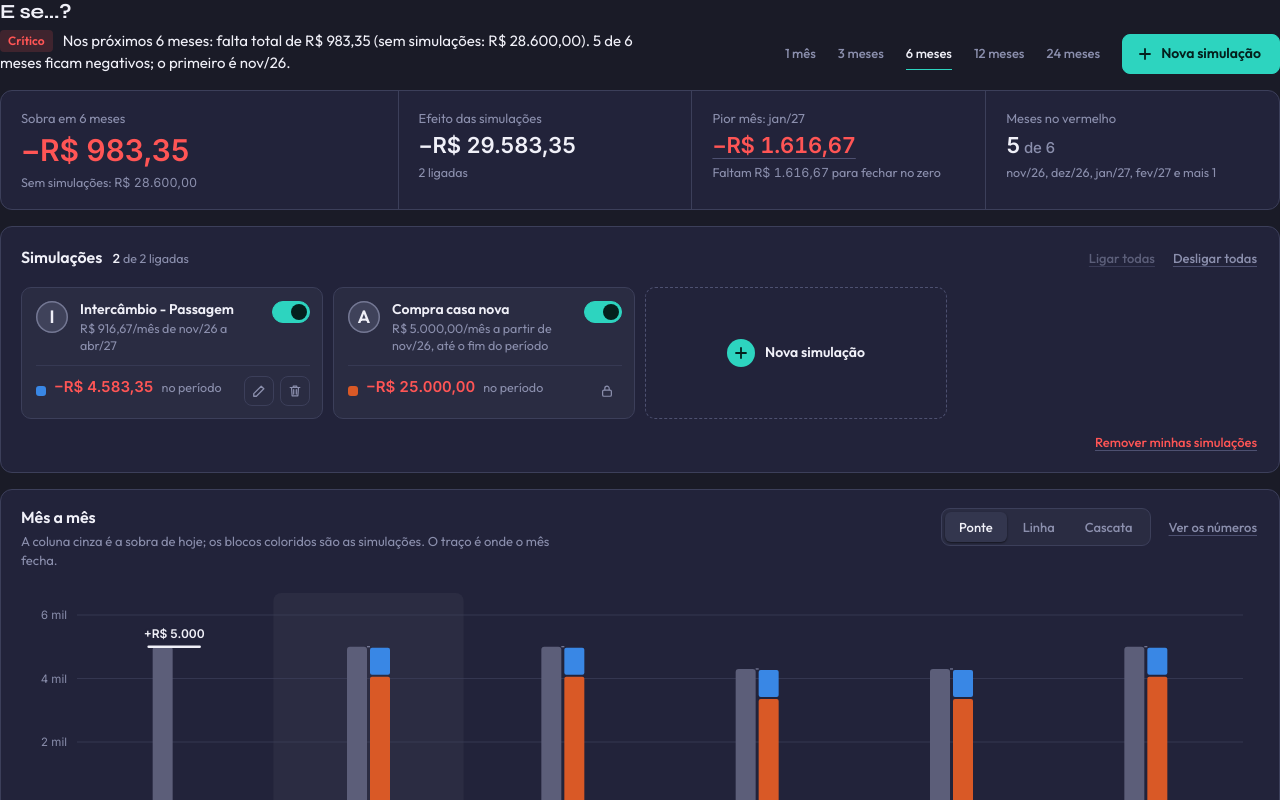
Test: WhatIfView: quitar parcelas do cartão › sugere dezembro e mostra a conta de todos os cartões antes de salvar
Click the button "Nova simulação" in the row of "Crítico". click: [1201, 54]
box: [1122,34,1279,74]
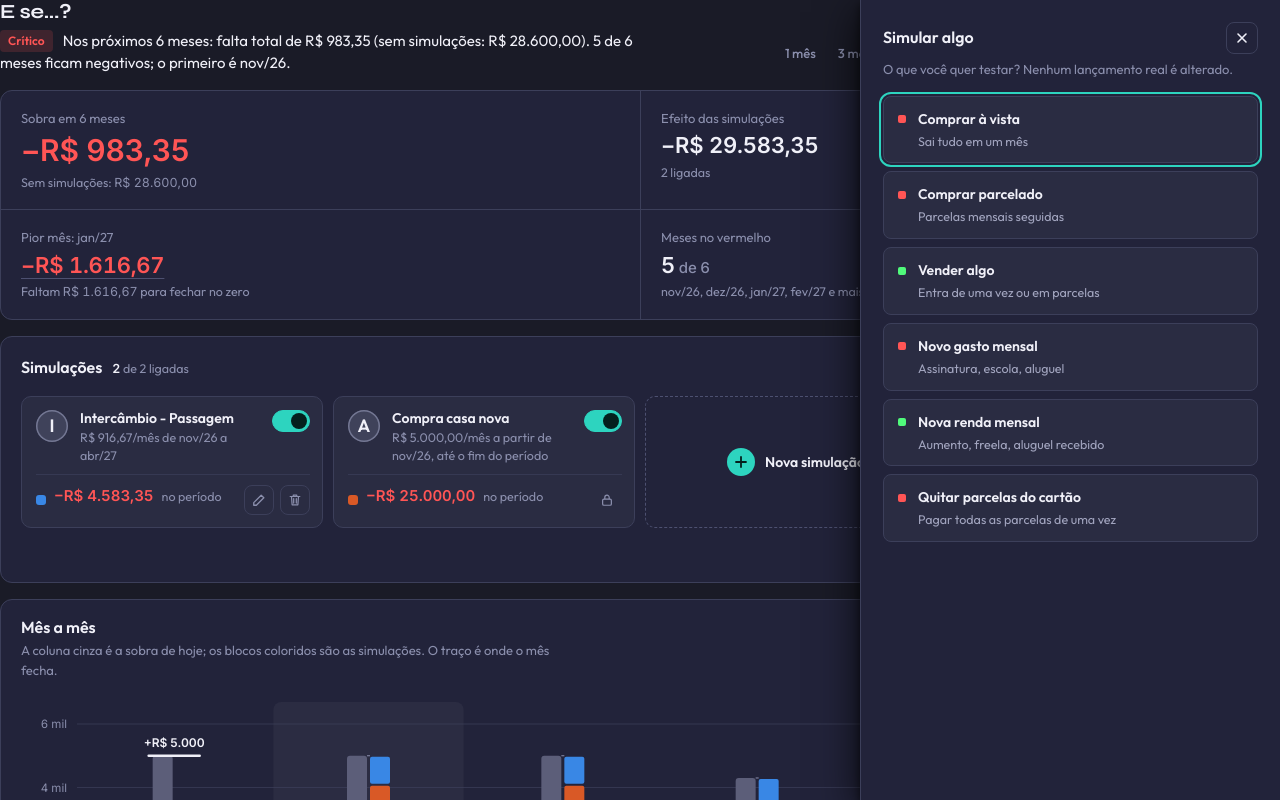
Click the text "Quitar parcelas do cartão". click: [1000, 497]
box: [918,488,1081,506]
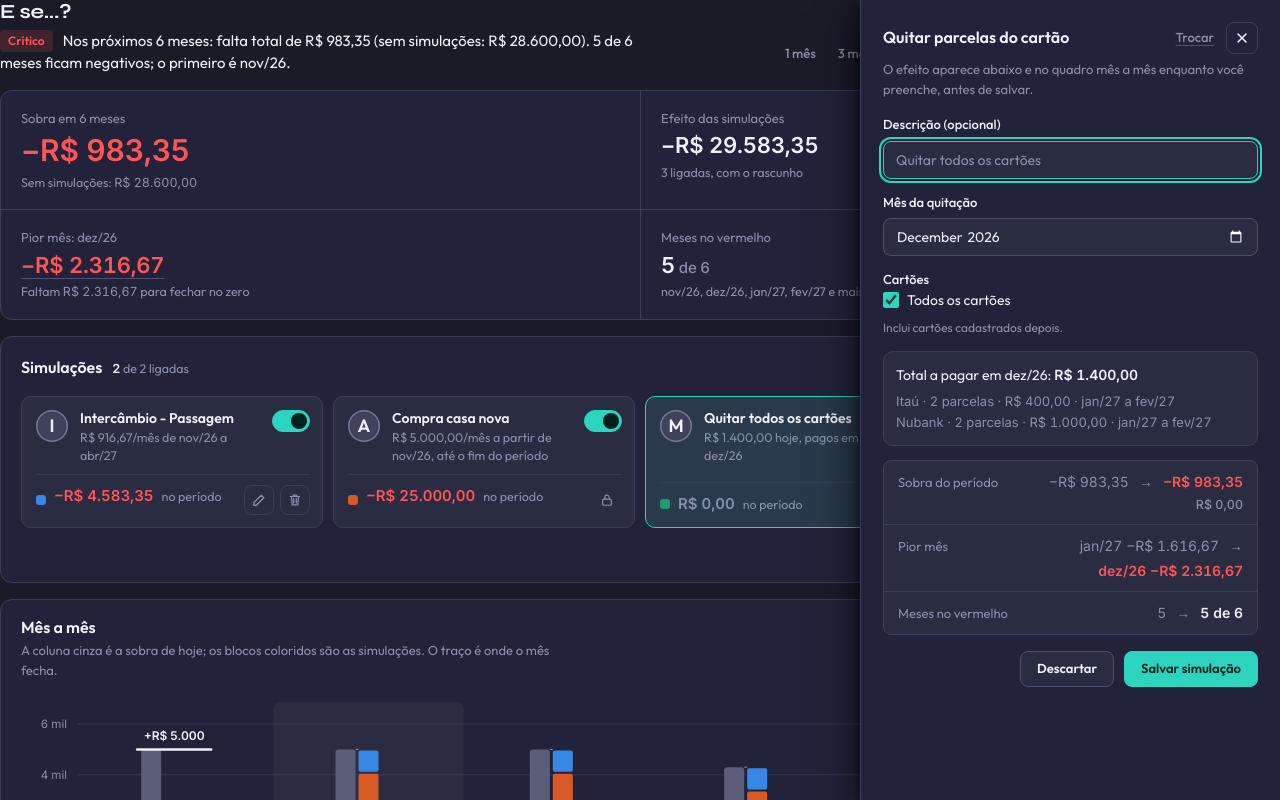
Expected: the field labelled "Mês da quitação" holds "2026-12", [883,218,1258,256]
Expected: the checkbox labelled "Todos os cartões" is checked, [883,292,899,308]
Expected: the dialog "Quitar parcelas do cartão" shows "Total a pagar em dez/26: R$ 1.400,00", [860,0,1279,799]
